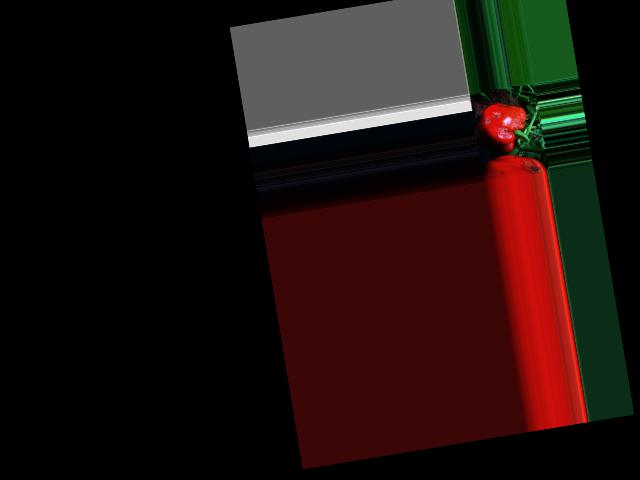bell_pepper: (471, 100, 536, 157)
